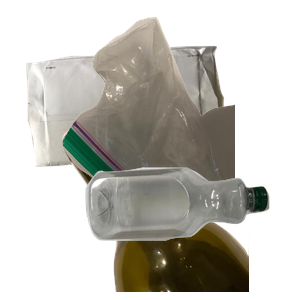glass: (60, 120, 300, 300)
paper: (24, 43, 242, 202)
plastic: (83, 165, 300, 300)
trash: (60, 14, 300, 194)
